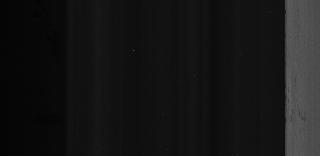silk spot: (287, 74, 313, 134)
